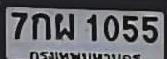0: (103, 14, 118, 40)
1: (86, 13, 96, 40)
5: (141, 16, 157, 42), (122, 14, 137, 41)
7: (10, 11, 26, 39)
A01: (31, 12, 50, 39)
A28: (54, 12, 73, 39)
